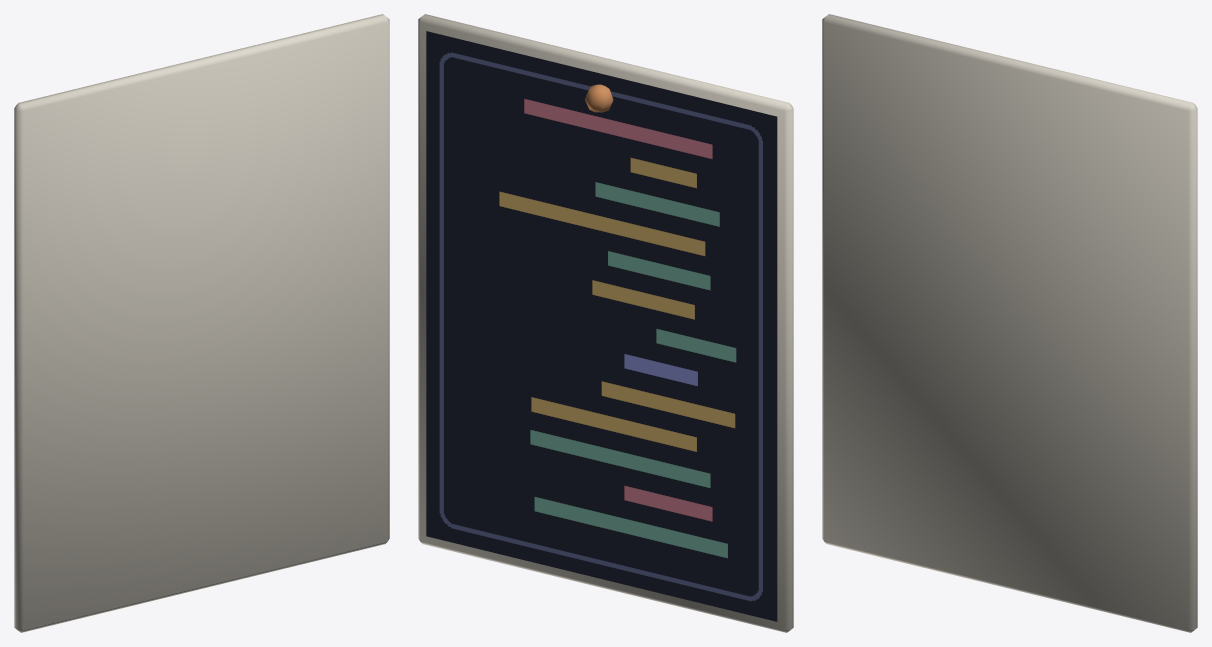
The model's file is junior_poster_2.glb.
3 renders of one model, left to right at view 1: azimuth 30°, elevation 25°; view 2: azimuth 150°, elevation 25°; view 3: azimuth 330°, elevation 25°, orthographic.
Visible parts, largest first — view 1: junior_poster_2__Paper; view 2: junior_poster_2, junior_poster_2__Paper, junior_poster_2__Pin; view 3: junior_poster_2__Paper.
Part boxes in pixels (box(x1,y1,x2,y2)): junior_poster_2__Paper: box(14, 14, 389, 632); junior_poster_2: box(426, 31, 777, 621); junior_poster_2__Paper: box(418, 14, 793, 632); junior_poster_2__Pin: box(585, 84, 613, 112); junior_poster_2__Paper: box(822, 14, 1197, 632).
Bounding box in the file's own units: 0.34 × 0.46 × 0.028.
Materials: 3 (1 with a texture image).
